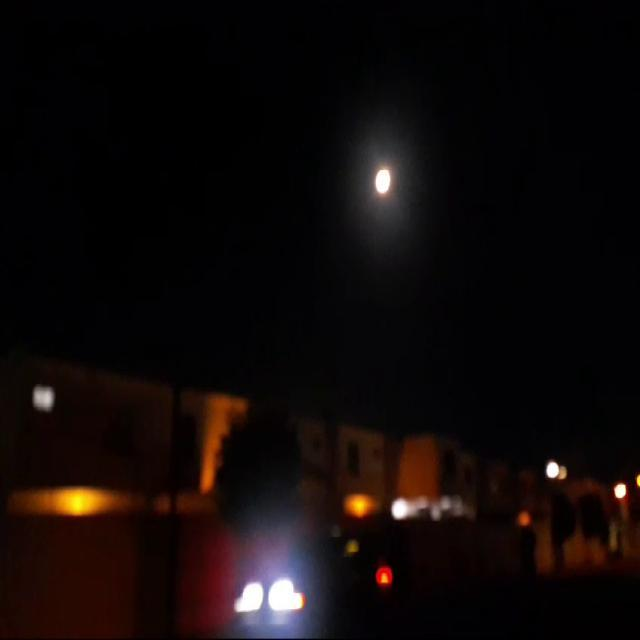moon: (356, 164, 376, 198)
